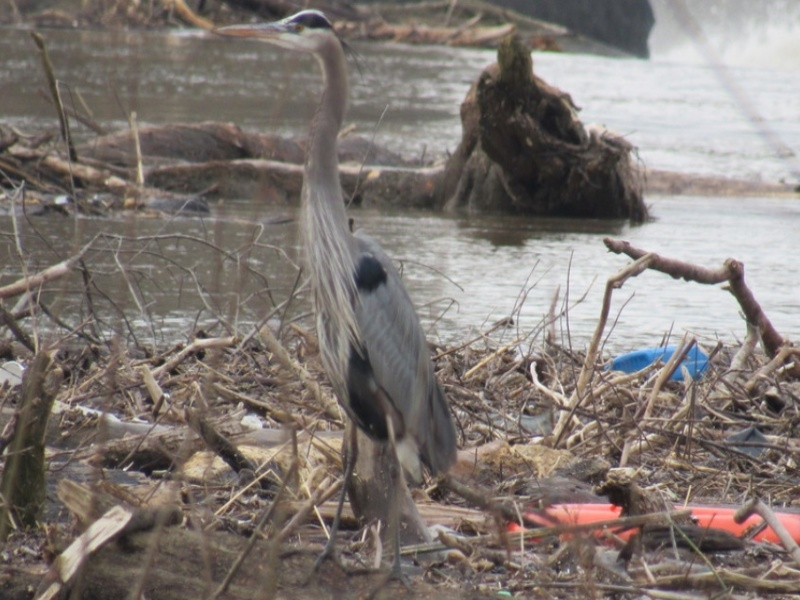heron: (212, 11, 457, 577)
